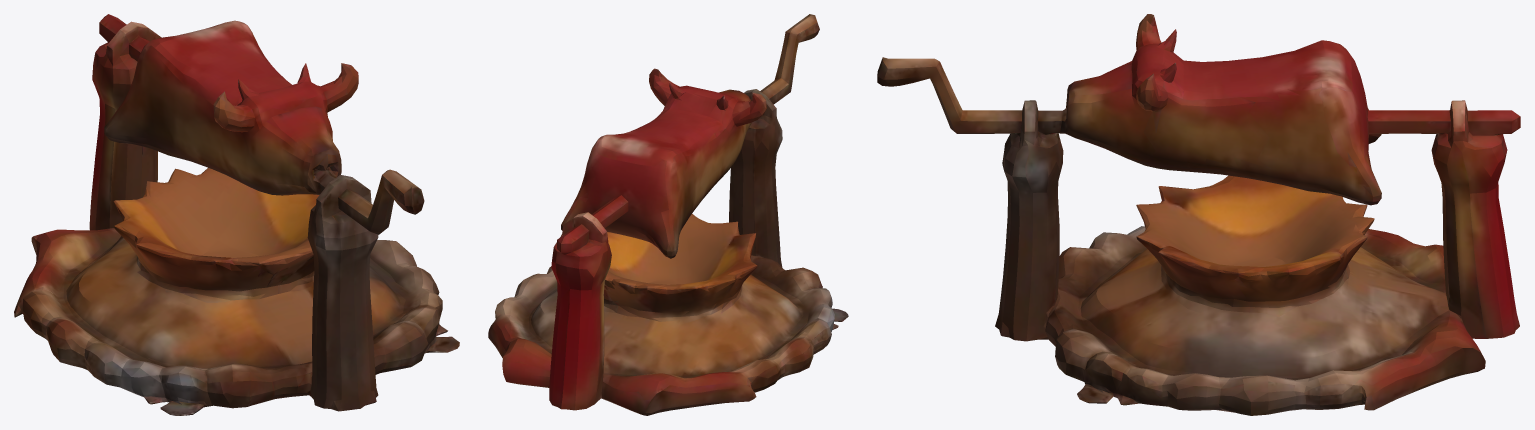
Rendered from army-camp-6.glb.
The picture shows the model from 3 angles, left to right: view 1: azimuth 30°, elevation 25°; view 2: azimuth 150°, elevation 25°; view 3: azimuth 270°, elevation 25°; orthographic projection. The views are drawn at different scales.
Parts seen in each view (by area): view 1: model; view 2: model; view 3: model.
Part boxes in pixels (<box>): model: <box>14,14,459,415</box>; model: <box>488,14,848,415</box>; model: <box>877,14,1520,415</box>.
Size of the model in its own units: 1.25 by 0.936 by 1.9.
Materials: 1 (1 with a texture image).
